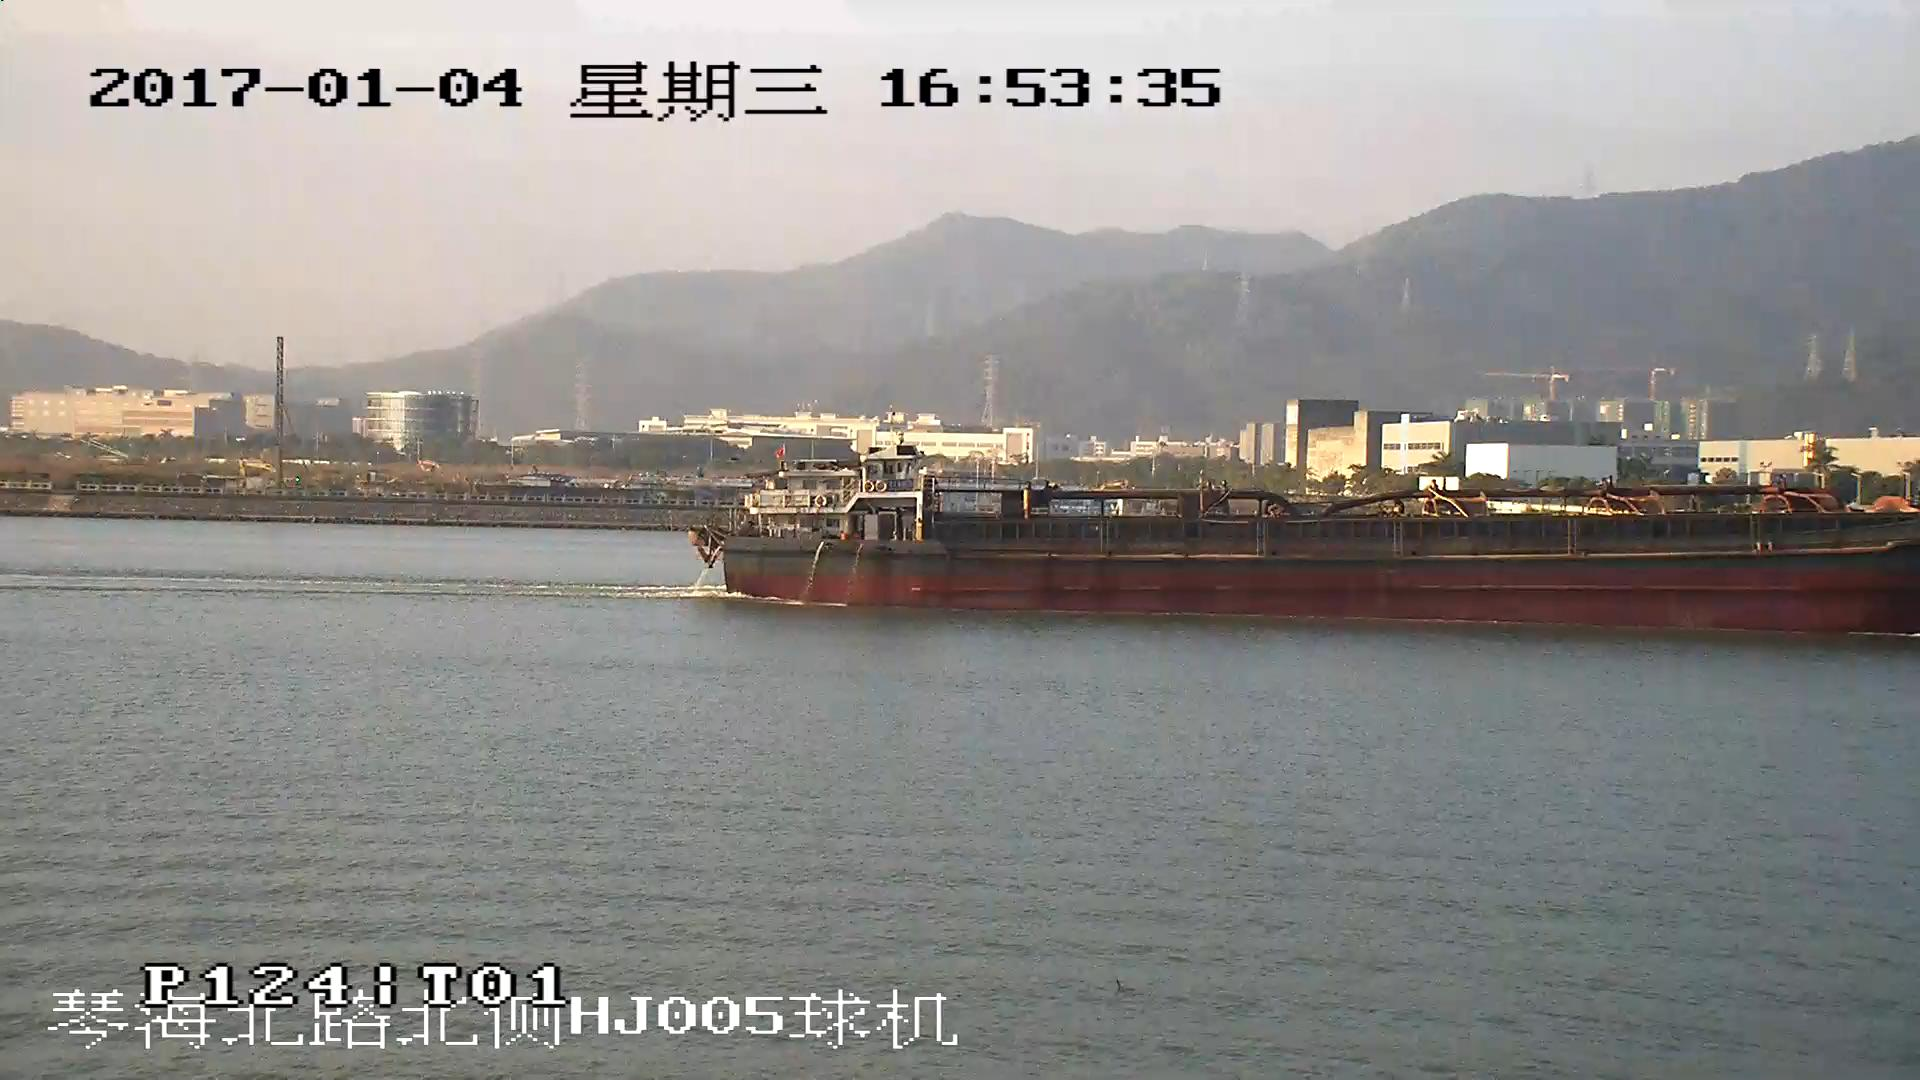bulk cargo carrier: (691, 455, 1920, 626)
